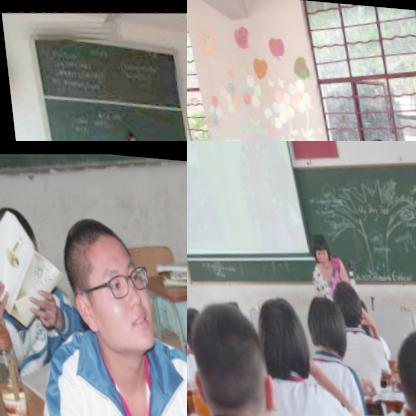head: (50, 205, 160, 356), (187, 289, 271, 416), (241, 284, 305, 372), (377, 312, 416, 416), (294, 280, 343, 354), (0, 195, 42, 281), (318, 270, 357, 324), (301, 227, 328, 263), (187, 298, 202, 350), (356, 128, 392, 141), (117, 125, 133, 141)
